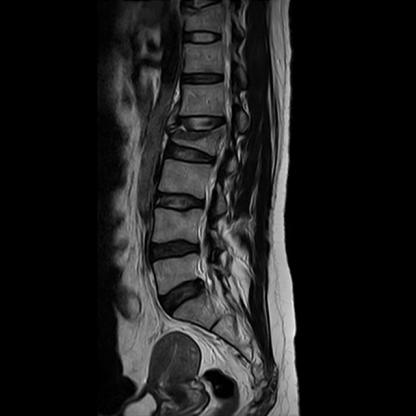Annular Tearrotation: (158, 280, 213, 313)
Fracturerotation: (163, 111, 238, 166)
